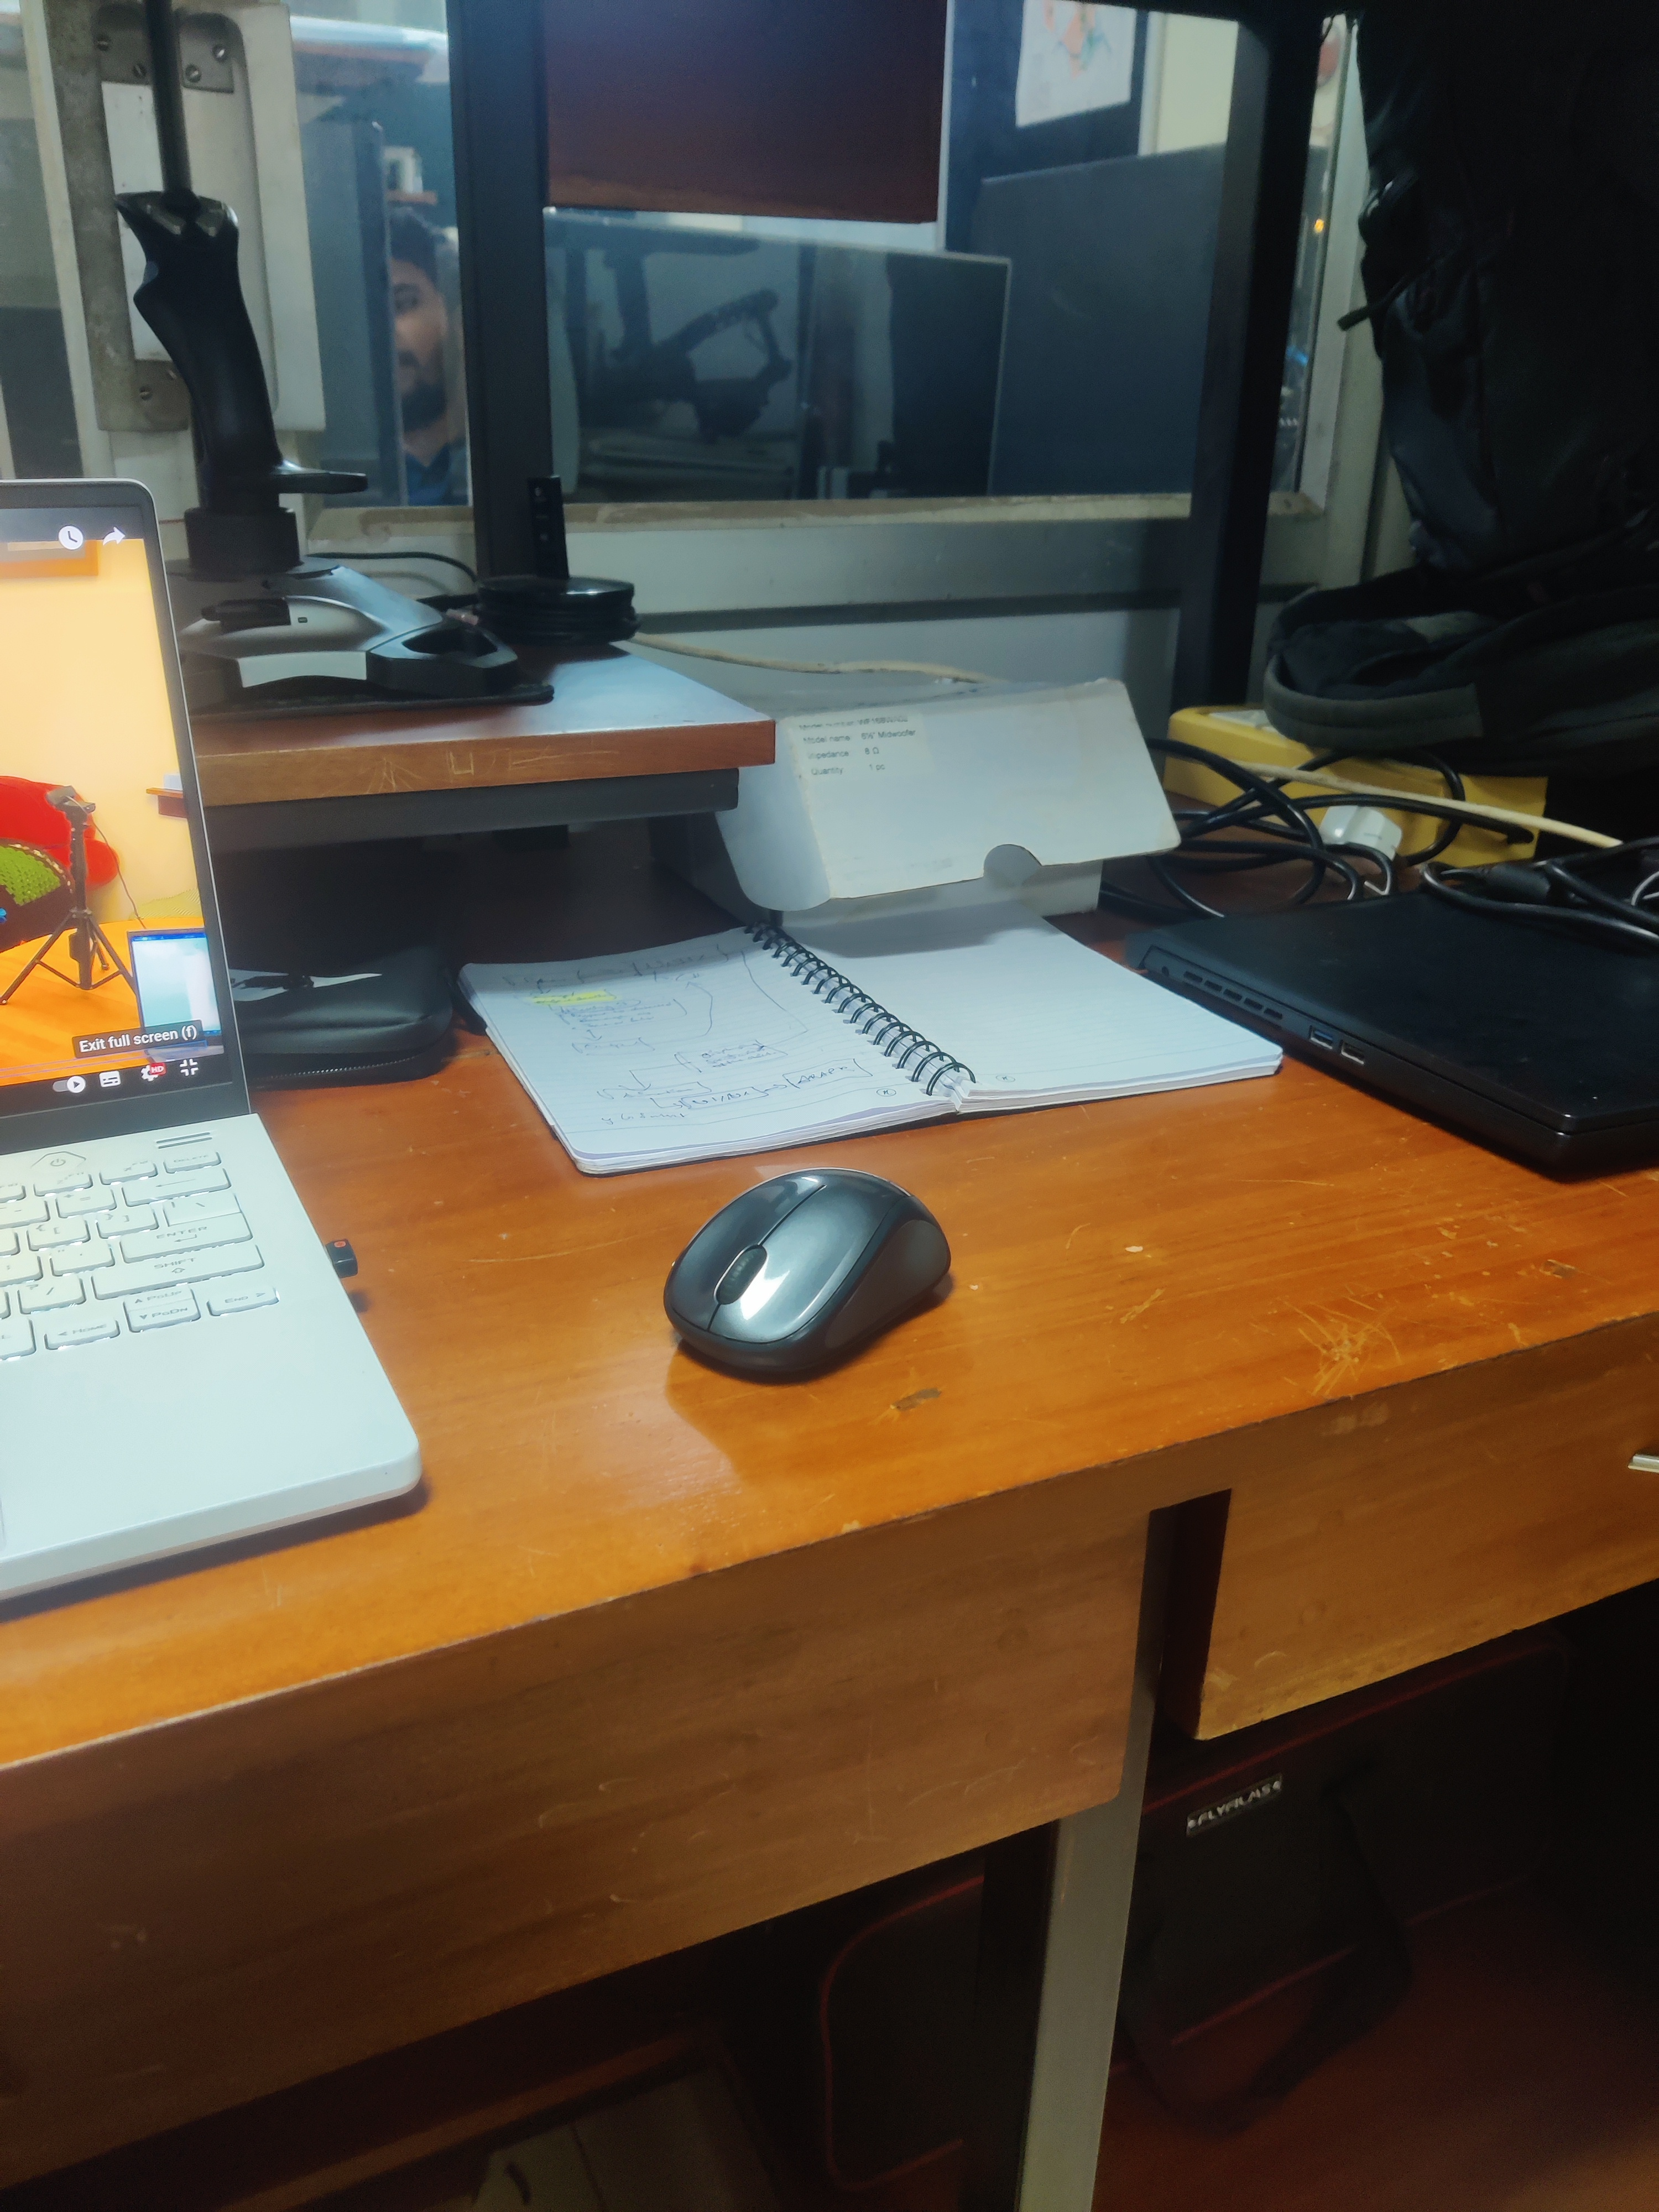logitechMouse: (660, 1163, 957, 1379)
